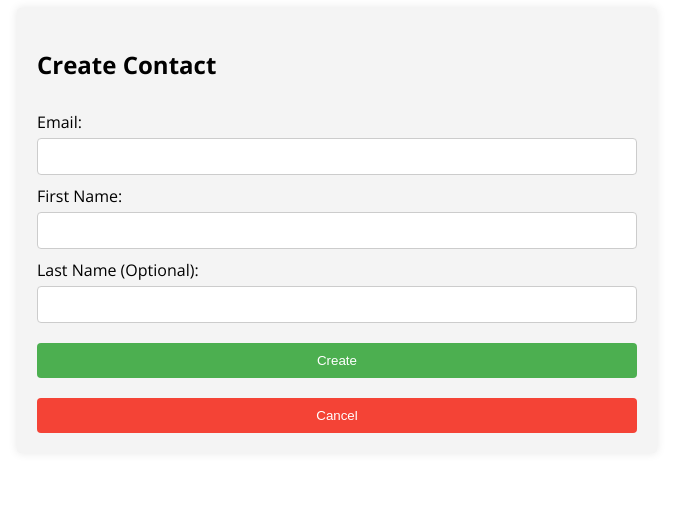
Scenario: CreateContactPage Component › Gives the correct error message when first name is too short
The width and height of the screenshot is (675, 515).
Type "test1@example.com" into the field labelled "Email:" at coordinates (337, 156), box [37,138,637,175]
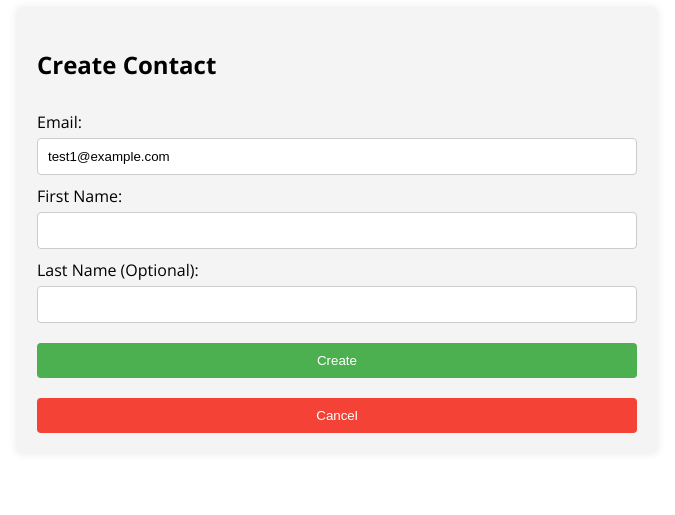
Click the button "Create" at coordinates (337, 360), box [37,343,637,378]
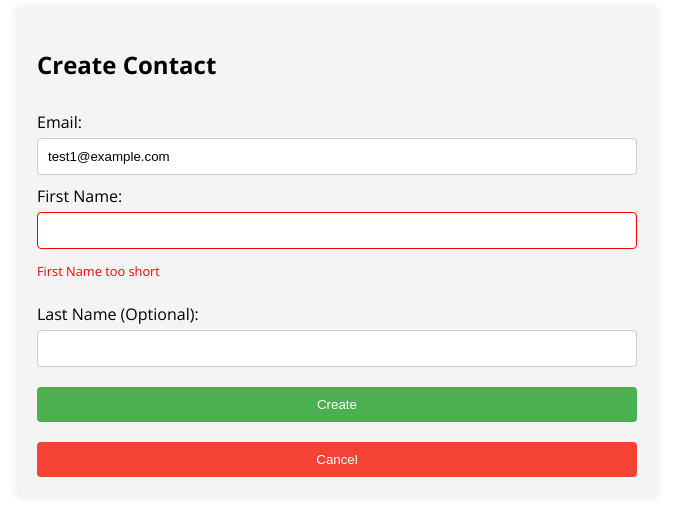
Result: the text "First Name too short" is shown at [37,262,160,280]
